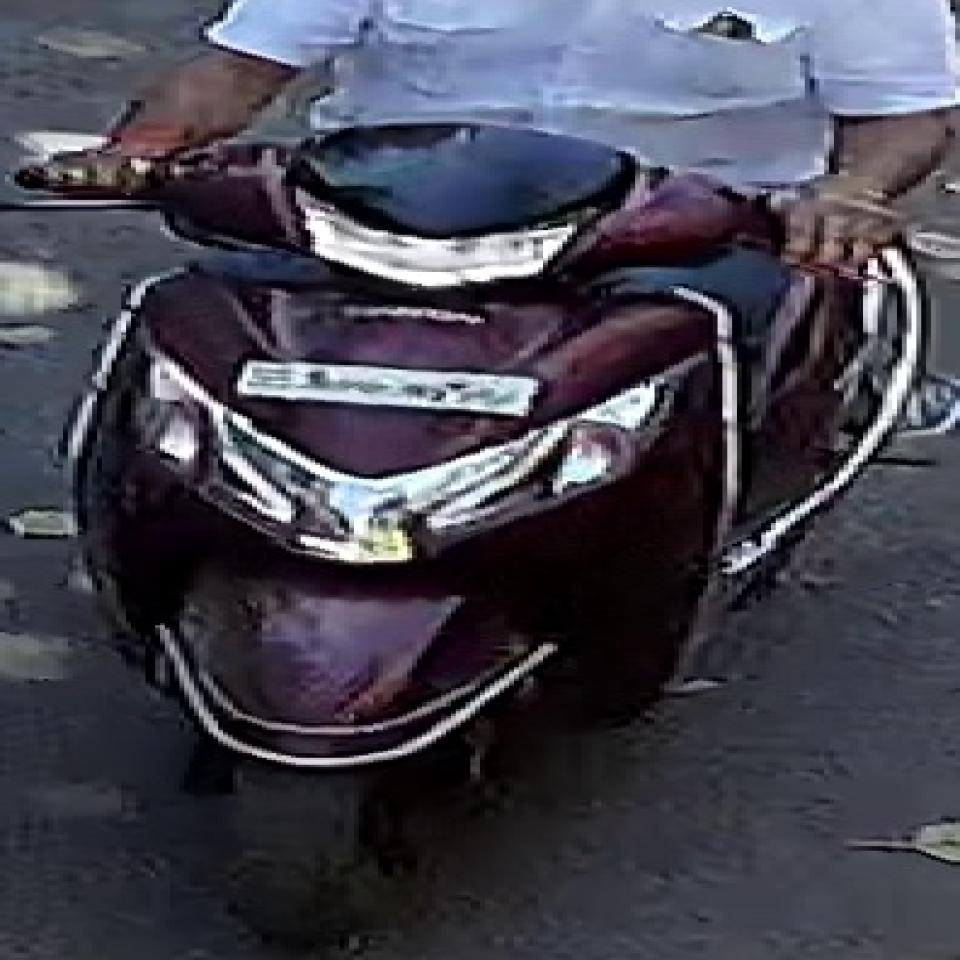head_light: (296, 184, 601, 286)
